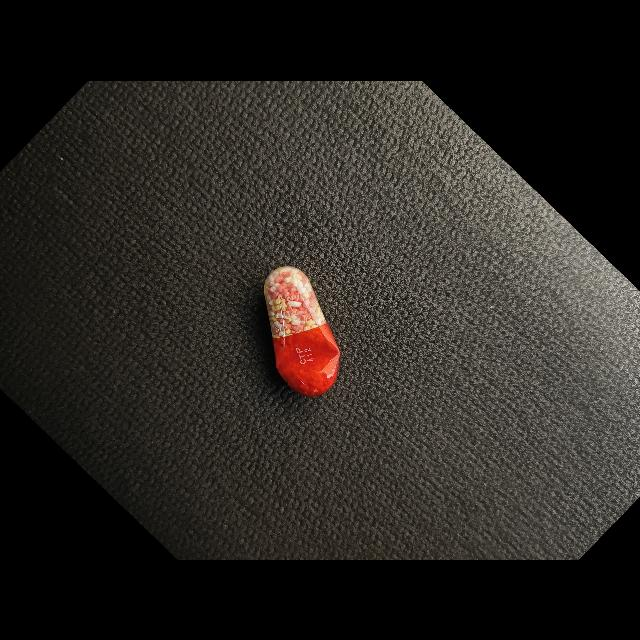Defective Capsule: (264, 265, 340, 396)
